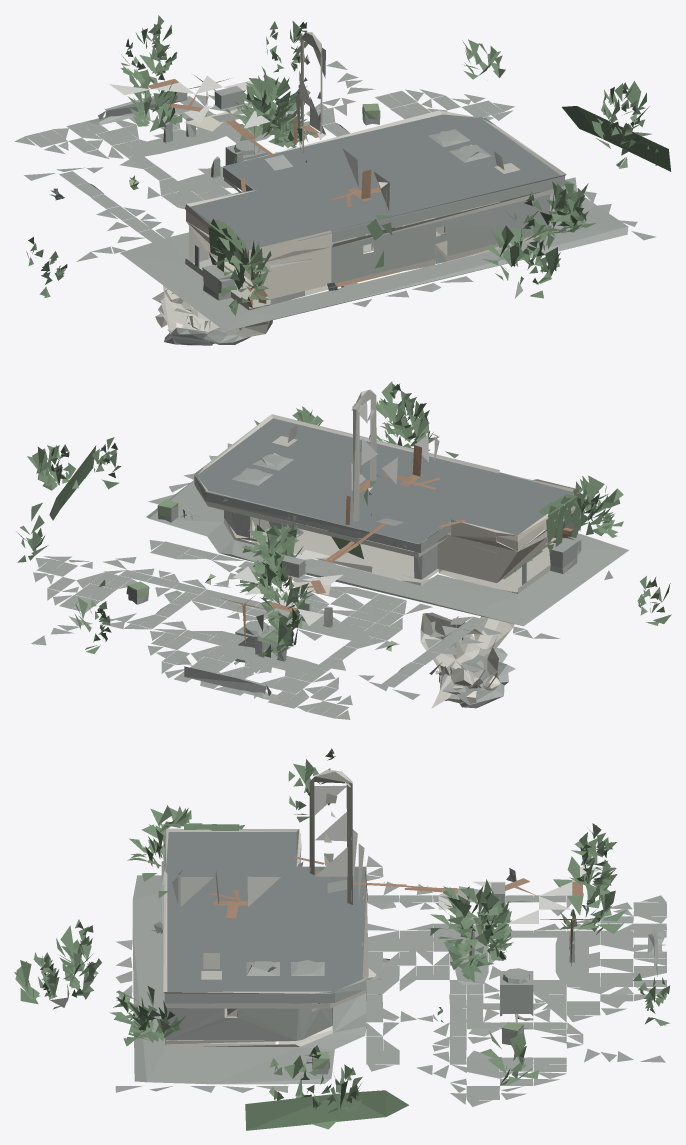
The model's file is gas_station_1.glb.
3 renders of one model, top to bottom at view 1: azimuth 30°, elevation 25°; view 2: azimuth 150°, elevation 25°; view 3: azimuth 270°, elevation 25°, orthographic. The views are drawn at different scales.
Parts seen in each view (by area): view 1: concrete_slabs_9x3_fade_b_LOD0, locker_a_open, tailer_a_LOD0, floor_and_ceiling002, sink_a, supermarket_shelves_a_LOD0, workbench (1); view 2: concrete_slabs_9x3_fade_b_LOD0, locker_a_open, tailer_a_LOD0, floor_and_ceiling002, sink_a, supermarket_shelves_a_LOD0, workbench (1), wooden_crate_d; view 3: concrete_slabs_9x3_fade_b_LOD0, locker_a_open, tailer_a_LOD0, floor_and_ceiling002, supermarket_shelves_a_LOD0, workbench (1), sink_a.
Part boxes in pixels (x1,y1,x2,y2): concrete_slabs_9x3_fade_b_LOD0: (14, 61, 655, 345); locker_a_open: (190, 114, 564, 267); tailer_a_LOD0: (26, 15, 671, 315); floor_and_ceiling002: (152, 32, 566, 337); sink_a: (184, 109, 541, 298); supermarket_shelves_a_LOD0: (109, 47, 389, 210); workbench (1): (147, 75, 400, 307); concrete_slabs_9x3_fade_b_LOD0: (31, 443, 628, 719); locker_a_open: (181, 418, 573, 584); tailer_a_LOD0: (16, 381, 671, 660); floor_and_ceiling002: (196, 389, 578, 708); sink_a: (230, 479, 577, 595); supermarket_shelves_a_LOD0: (233, 402, 428, 625); workbench (1): (221, 445, 572, 648); wooden_crate_d: (126, 499, 396, 651); concrete_slabs_9x3_fade_b_LOD0: (50, 856, 667, 1106); locker_a_open: (164, 831, 366, 1063); tailer_a_LOD0: (14, 748, 670, 1130); floor_and_ceiling002: (161, 769, 396, 1046); supermarket_shelves_a_LOD0: (180, 785, 602, 923); workbench (1): (210, 856, 598, 966); sink_a: (162, 830, 505, 1044).
Bounding box in the file's own units: 70.26 × 29.97 × 59.07.
